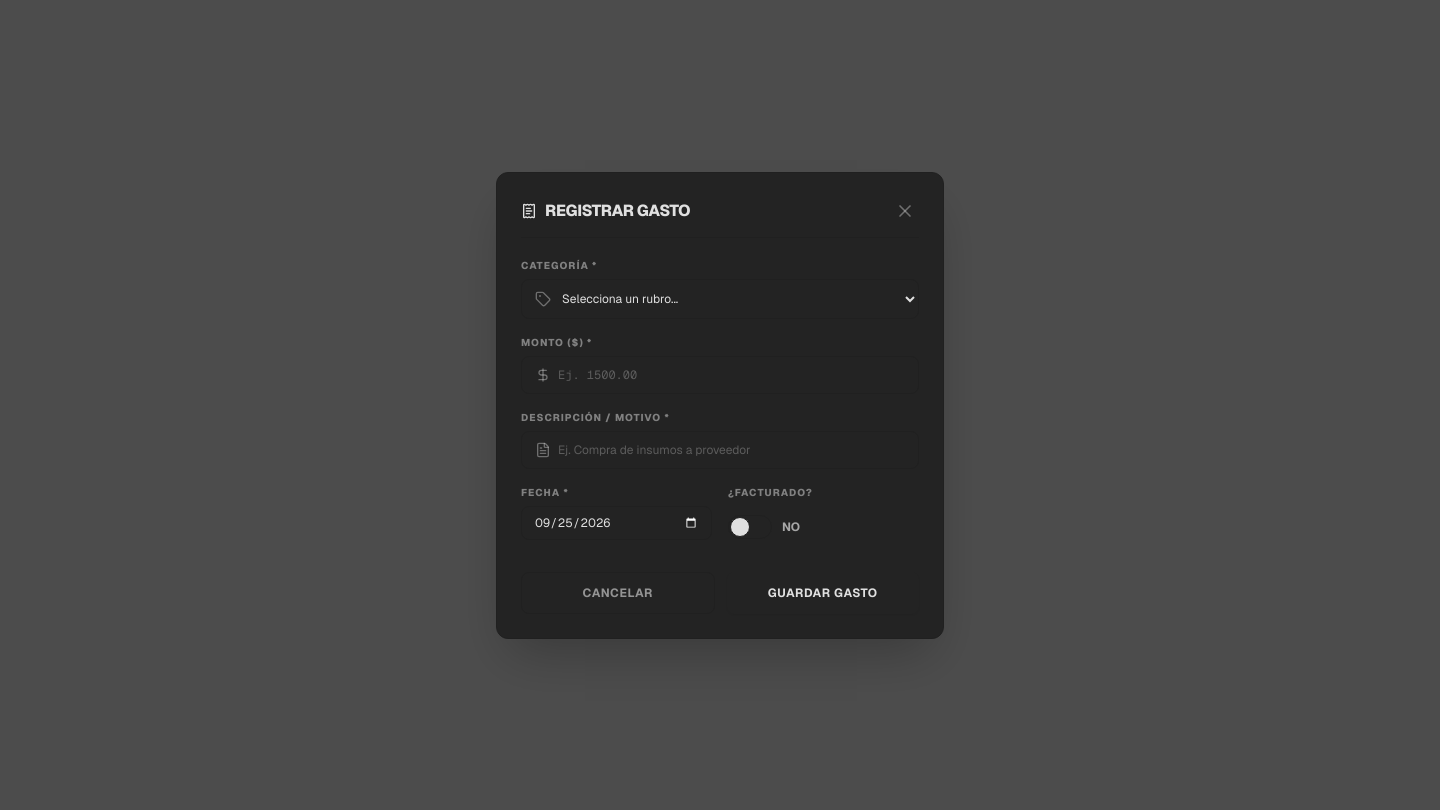
Test: ExpenseModal Component › displays validation error when required fields are missing
This screenshot has width=1440, height=810.
Step 1. Select "Renta (Fijo)" in the dropdown labelled "Categoría" → [720, 298], box [521,278,919,318]
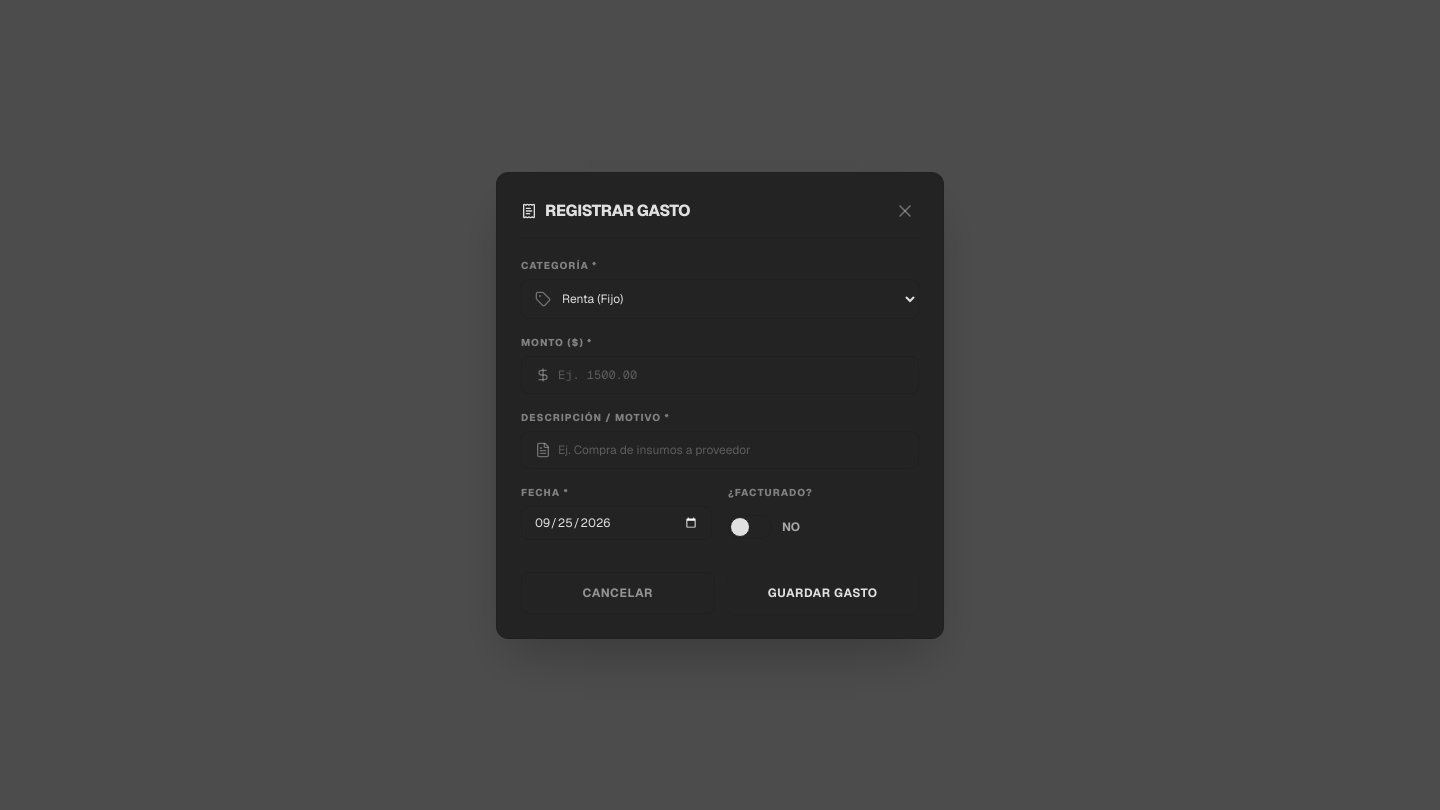
Step 2. Type "-5" into the number field labelled "Monto" → [720, 374], box [521,356,919,394]
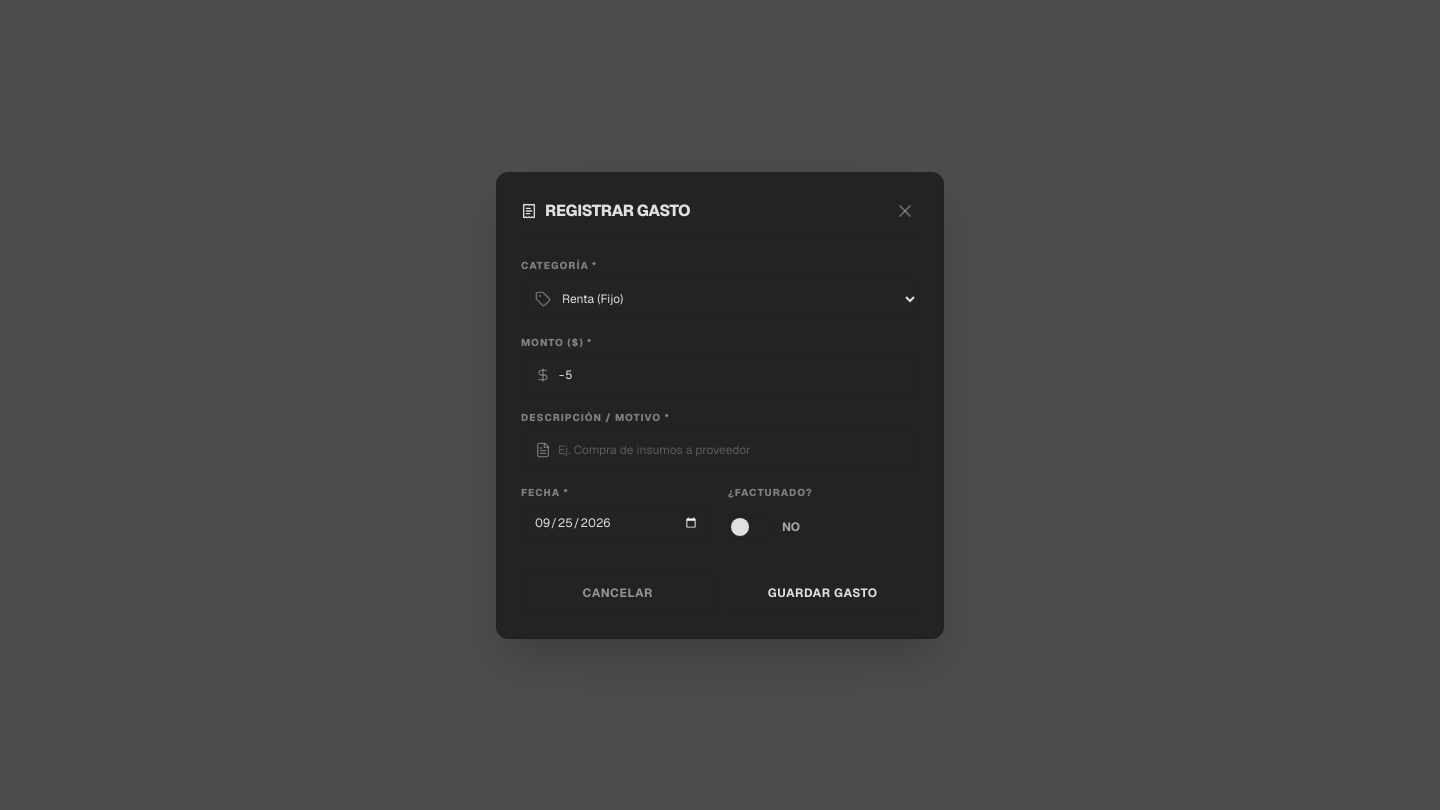
Step 3. Type "Prueba" into the field labelled "Descripción" → [720, 450], box [521,430,919,468]
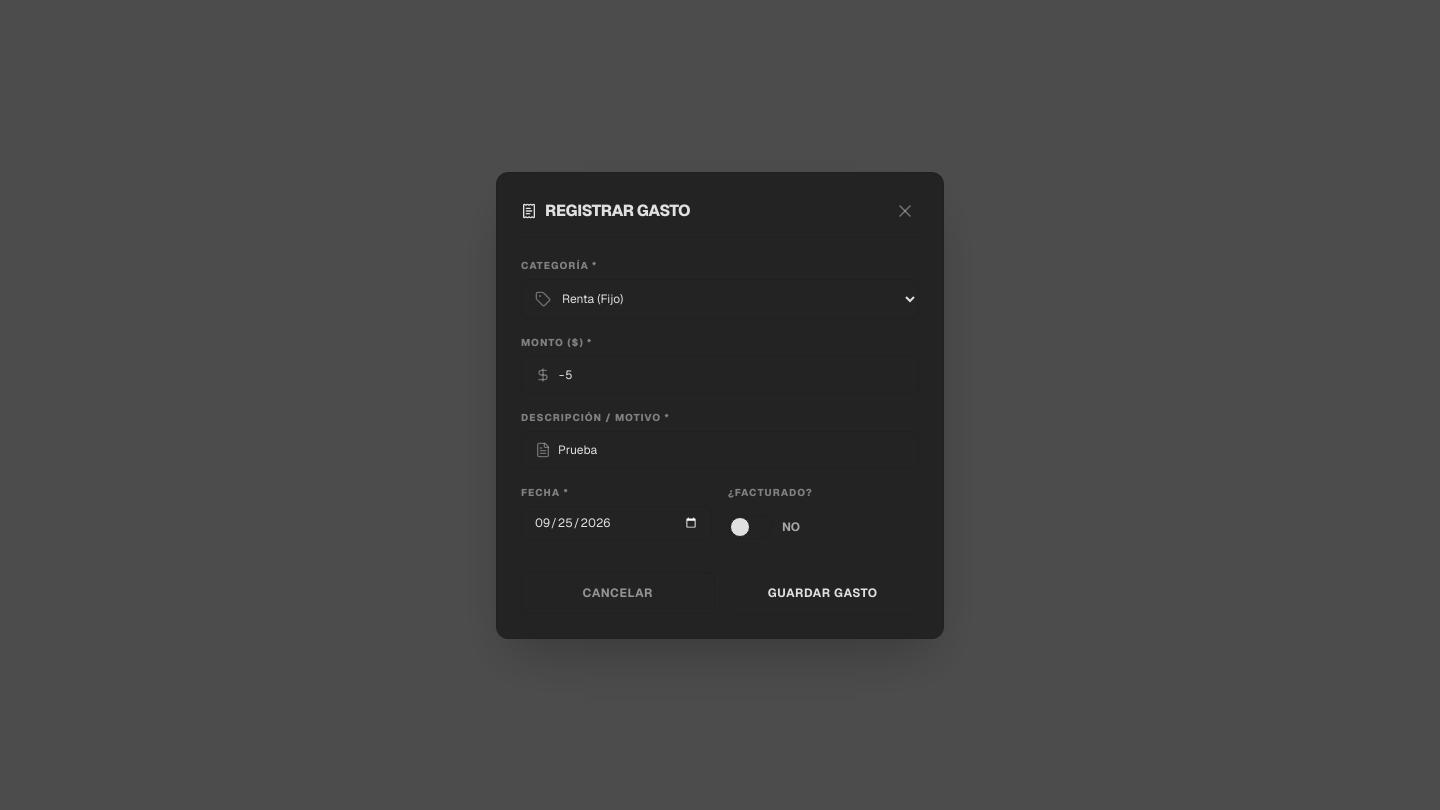
Step 4. Click the button "Guardar Gasto" → [823, 592], box [726,572,919,614]
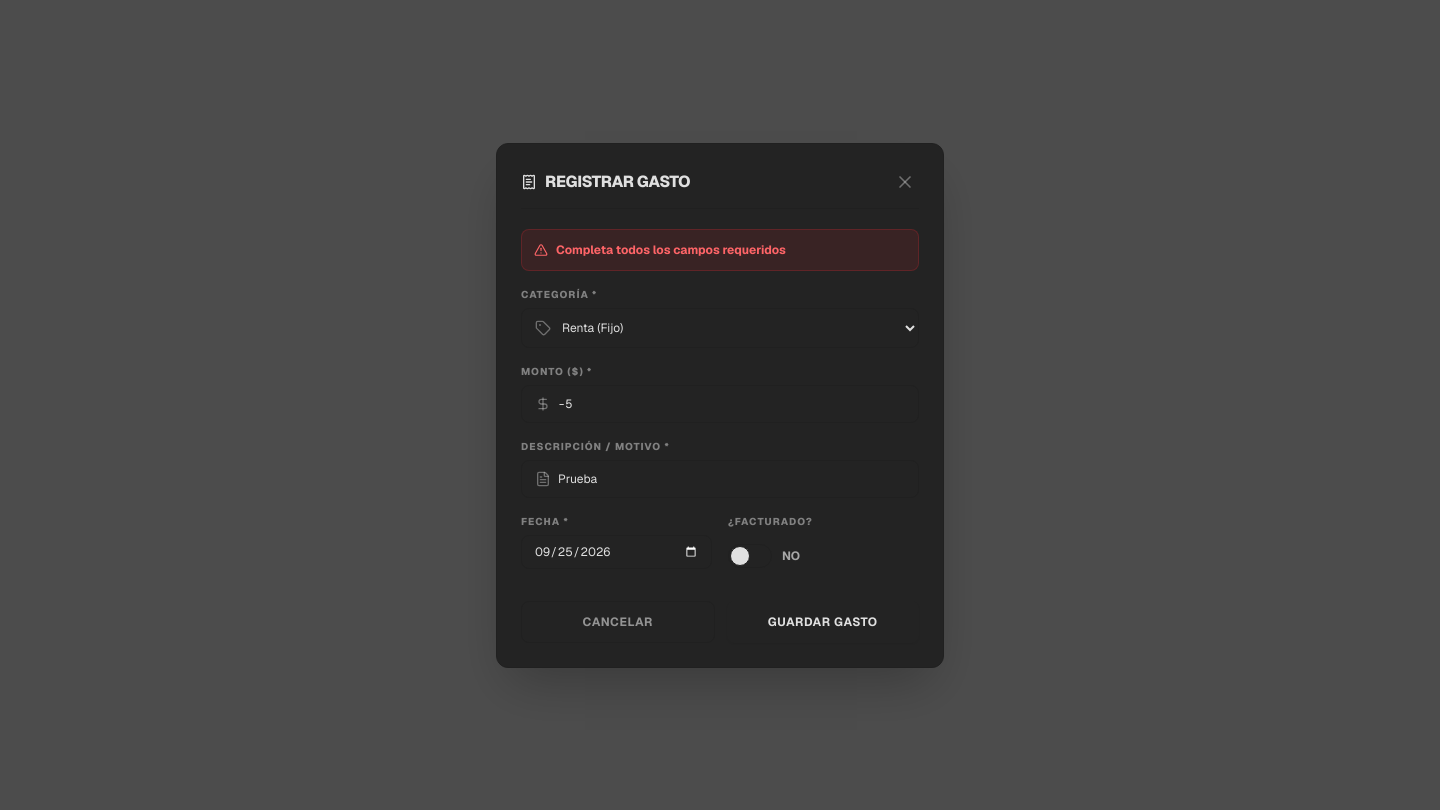
Expected: the text "Completa todos los campos requeridos" is shown, [521,228,919,270]
